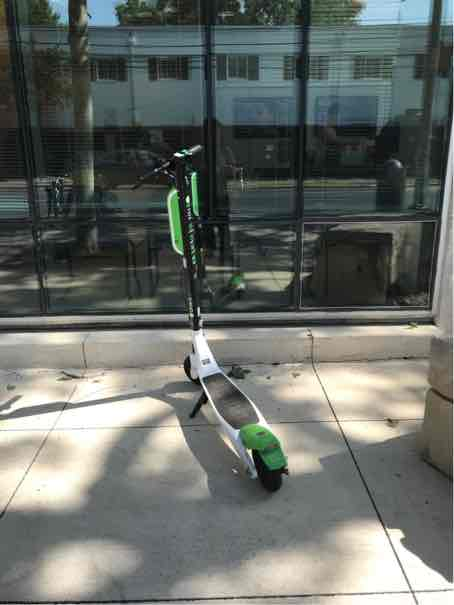scooter: (116, 138, 306, 486)
